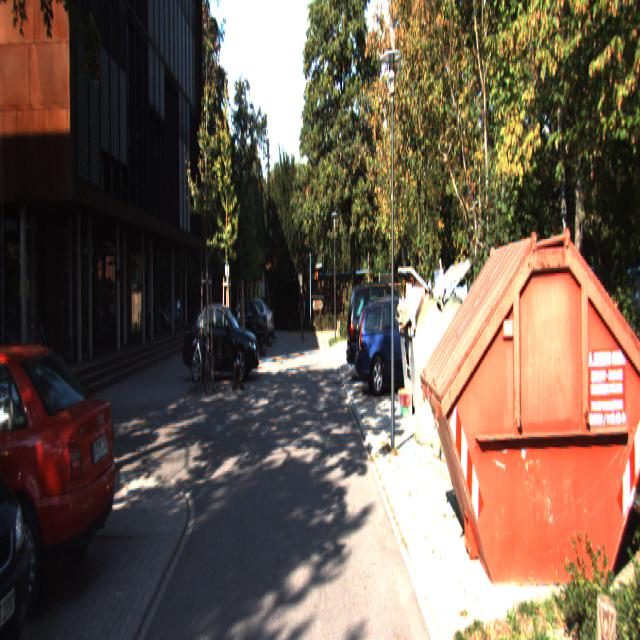Car: (0, 338, 121, 618), (0, 287, 44, 638), (354, 293, 444, 397), (346, 278, 424, 381), (184, 303, 262, 381), (215, 298, 268, 356), (232, 298, 276, 344)
